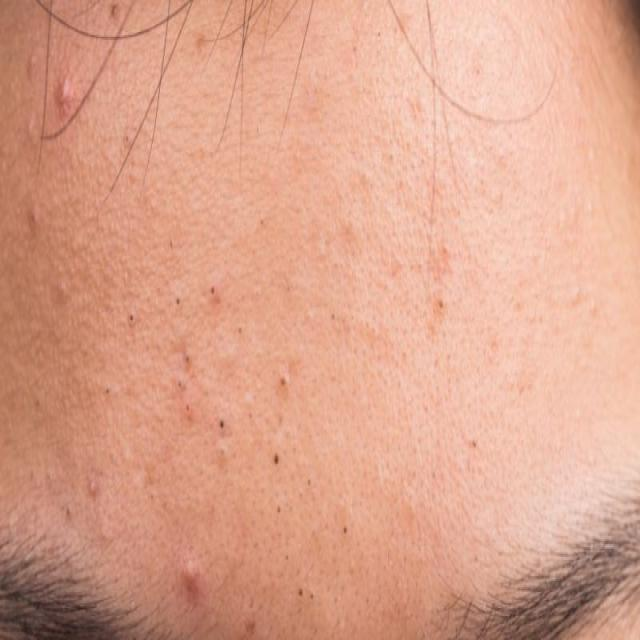Acne: (36, 104, 109, 232), (172, 541, 212, 614)
Blackheads: (123, 285, 286, 499)
